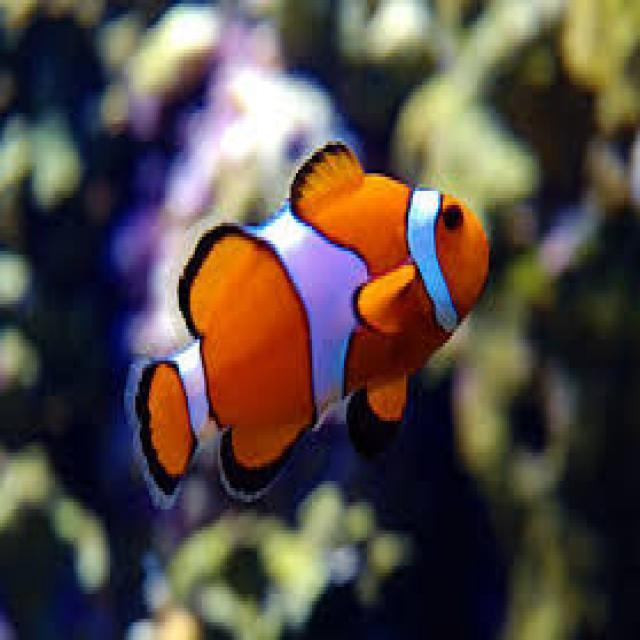ClownFish: (129, 139, 489, 508)
